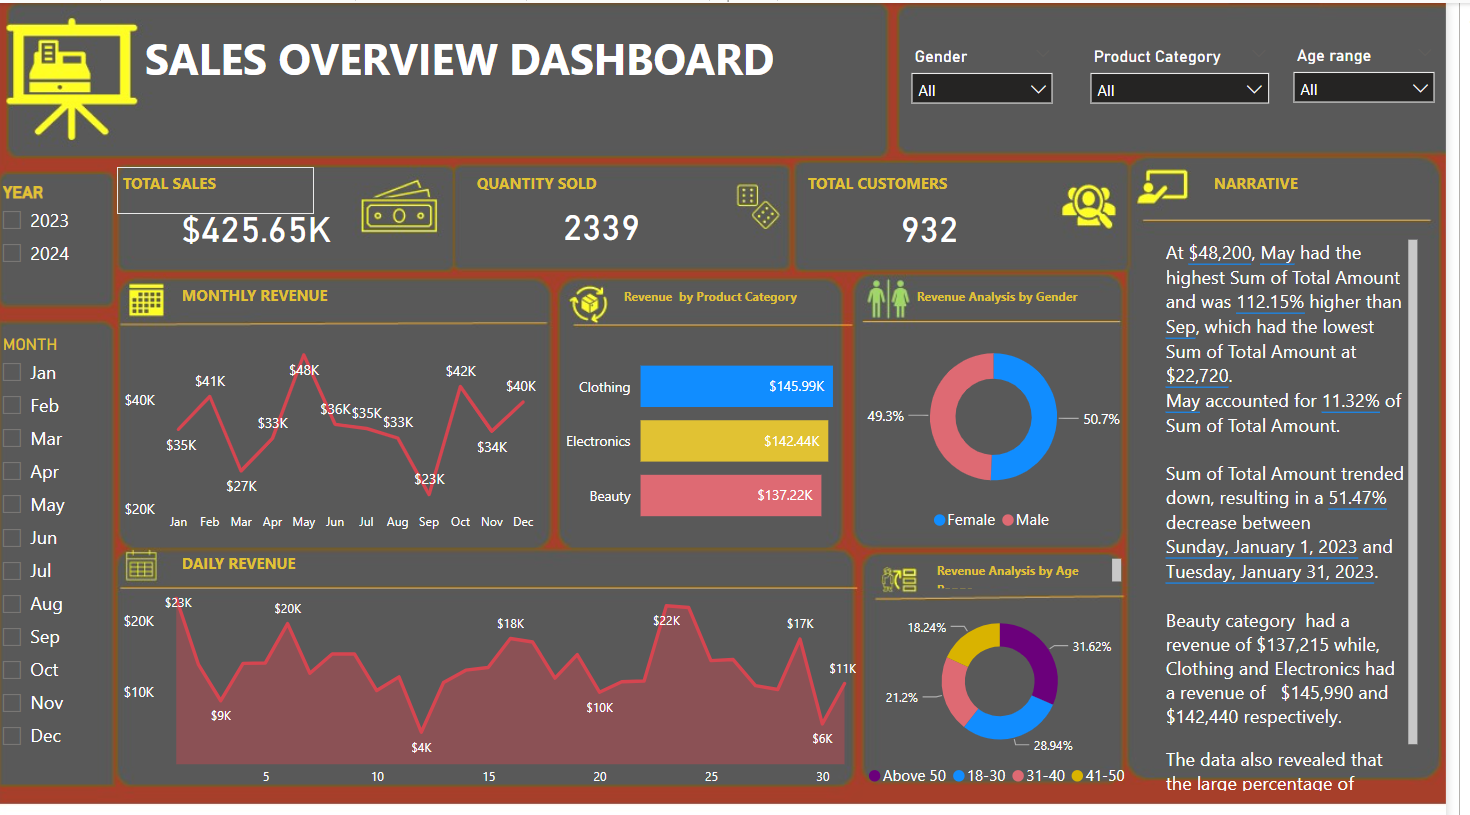

Layout of this report page (visuals, bound fields, positions):
{"tool":"powerbi","page":{"name":"Duplicate of Page 4","canvas":[1280,720],"ordinal":2},"visuals":[{"type":"textbox","box":[82.8,34.4,378,84.3],"z":0},{"type":"slicer","fields":{"Values":["3MTT Dashboard.Product Category"]},"box":[653.8,35.3,189.4,85],"z":1000,"group":"g1"},{"type":"slicer","fields":{"Values":["3MTT Dashboard.Gender"]},"box":[485.7,35.7,154.7,82.9],"z":1000,"group":"g2"},{"type":"card","title":"Total Revenue","fields":{"Values":["Sum(3MTT Dashboard.Total Amount)"]},"box":[114,140.6,204.6,65.6],"z":1000},{"type":"slicer","fields":{"Values":["3MTT Dashboard.Age range"]},"box":[844.8,34.4,154.8,82.7],"z":2000,"group":"g1"},{"type":"card","title":"Total Qty Sold","fields":{"Values":["Sum(3MTT Dashboard.Quantity)"]},"box":[485.7,148.4,204.6,59.3],"z":2000},{"type":"card","title":"Total Customer","fields":{"Values":["Count(3MTT Dashboard.Customer ID)"]},"box":[766.9,149.9,204.6,56.2],"z":3000},{"type":"columnChart","title":"Monthly Revenue","fields":{"Category":["3MTT Dashboard.Month"],"Y":["Sum(3MTT Dashboard.Total Amount)"]},"box":[100,265.5,346.7,187.4],"z":4000},{"type":"barChart","fields":{"Y":["Sum(3MTT Dashboard.Total Amount)"],"Category":["3MTT Dashboard.Product Category"]},"box":[493.5,271.8,254.6,190.5],"z":5000},{"type":"donutChart","fields":{"Y":["Sum(3MTT Dashboard.Total Amount)"],"Category":["3MTT Dashboard.Gender"]},"box":[812.1,265.5,217.1,190.5],"z":6000},{"type":"areaChart","title":"DailyRevenue","fields":{"Category":["3MTT Dashboard.Date.Variation.Date Hierarchy.Day"],"Y":["Sum(3MTT Dashboard.Total Amount)"]},"box":[100,504.5,627.9,189],"z":7000},{"type":"donutChart","title":"Revenue Distibution by Age Group","fields":{"Category":["3MTT Dashboard.Age range"],"Y":["Sum(3MTT Dashboard.Total Amount)"]},"box":[777.8,512.3,242.1,173.4],"z":8000},{"type":"slicer","fields":{"Values":["3MTT Dashboard.Month"]},"box":[0,285.8,100,410.8],"z":9000},{"type":"slicer","fields":{"Values":["3MTT Dashboard.Date.Variation.Date Hierarchy.Year"]},"box":[0,153.1,100,112.5],"z":10000},{"type":"textbox","box":[501.3,231.1,214,40.6],"z":11000},{"type":"textbox","box":[812.1,231.1,173.4,40.6],"z":12000},{"type":"group","id":"g1","title":"Group 1","box":[653.8,34.4,345.8,85.9],"z":13000,"group":"g2"},{"type":"textbox","box":[743.4,462.3,171.8,42.2],"z":13000},{"type":"textbox","box":[101.5,224.9,171.8,40.6],"z":14000},{"type":"textbox","box":[114,471.7,171.8,40.6],"z":15000},{"type":"textbox","box":[114,112.5,171.8,40.6],"z":16000},{"type":"textbox","box":[435.7,120.3,171.8,40.6],"z":17000},{"type":"textbox","box":[748.1,114,171.8,40.6],"z":18000},{"type":"group","id":"g2","title":"Group 2","box":[485.7,34.4,513.8,85.9],"z":19000},{"type":"textbox","box":[1058.3,283.5,172,39.7],"z":20000},{"type":"image","box":[1029.2,3.1,240.5,228],"z":21000},{"type":"textbox","box":[1058.9,340.5,201.5,356.1],"z":22000}]}

Visuals, with their boxes in screenshot pixels (x1, y1, x2, y2), scaled from the page's 1280x720 canvas onto the 1470x815 screenshot:
textbox: (x1=95, y1=39, x2=529, y2=134)
slicer - 3MTT Dashboard.Product Category: (x1=751, y1=40, x2=968, y2=136)
slicer - 3MTT Dashboard.Gender: (x1=558, y1=40, x2=735, y2=134)
"Total Revenue" card: (x1=131, y1=159, x2=366, y2=233)
slicer - 3MTT Dashboard.Age range: (x1=970, y1=39, x2=1148, y2=133)
"Total Qty Sold" card: (x1=558, y1=168, x2=793, y2=235)
"Total Customer" card: (x1=881, y1=170, x2=1116, y2=233)
"Monthly Revenue" columnChart: (x1=115, y1=301, x2=513, y2=513)
barChart - Sum(3MTT Dashboard.Total Amount) x 3MTT Dashboard.Product Category: (x1=567, y1=308, x2=859, y2=523)
donutChart - Sum(3MTT Dashboard.Total Amount) x 3MTT Dashboard.Gender: (x1=933, y1=301, x2=1182, y2=516)
"DailyRevenue" areaChart: (x1=115, y1=571, x2=836, y2=785)
"Revenue Distibution by Age Group" donutChart: (x1=893, y1=580, x2=1171, y2=776)
slicer - 3MTT Dashboard.Month: (x1=0, y1=324, x2=115, y2=789)
slicer - 3MTT Dashboard.Date.Variation.Date Hierarchy.Year: (x1=0, y1=173, x2=115, y2=301)
textbox: (x1=576, y1=262, x2=821, y2=308)
textbox: (x1=933, y1=262, x2=1132, y2=308)
"Group 1" group: (x1=751, y1=39, x2=1148, y2=136)
textbox: (x1=854, y1=523, x2=1051, y2=571)
textbox: (x1=117, y1=255, x2=314, y2=301)
textbox: (x1=131, y1=534, x2=328, y2=580)
textbox: (x1=131, y1=127, x2=328, y2=173)
textbox: (x1=500, y1=136, x2=698, y2=182)
textbox: (x1=859, y1=129, x2=1056, y2=175)
"Group 2" group: (x1=558, y1=39, x2=1148, y2=136)
textbox: (x1=1215, y1=321, x2=1413, y2=366)
image: (x1=1182, y1=4, x2=1458, y2=262)
textbox: (x1=1216, y1=385, x2=1447, y2=789)
